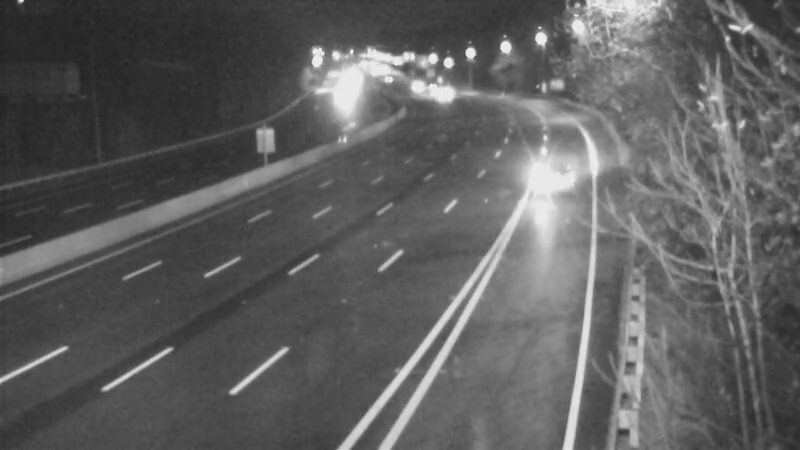vehicle: (514, 138, 594, 218), (363, 53, 413, 103), (390, 62, 440, 112), (412, 67, 462, 117)
